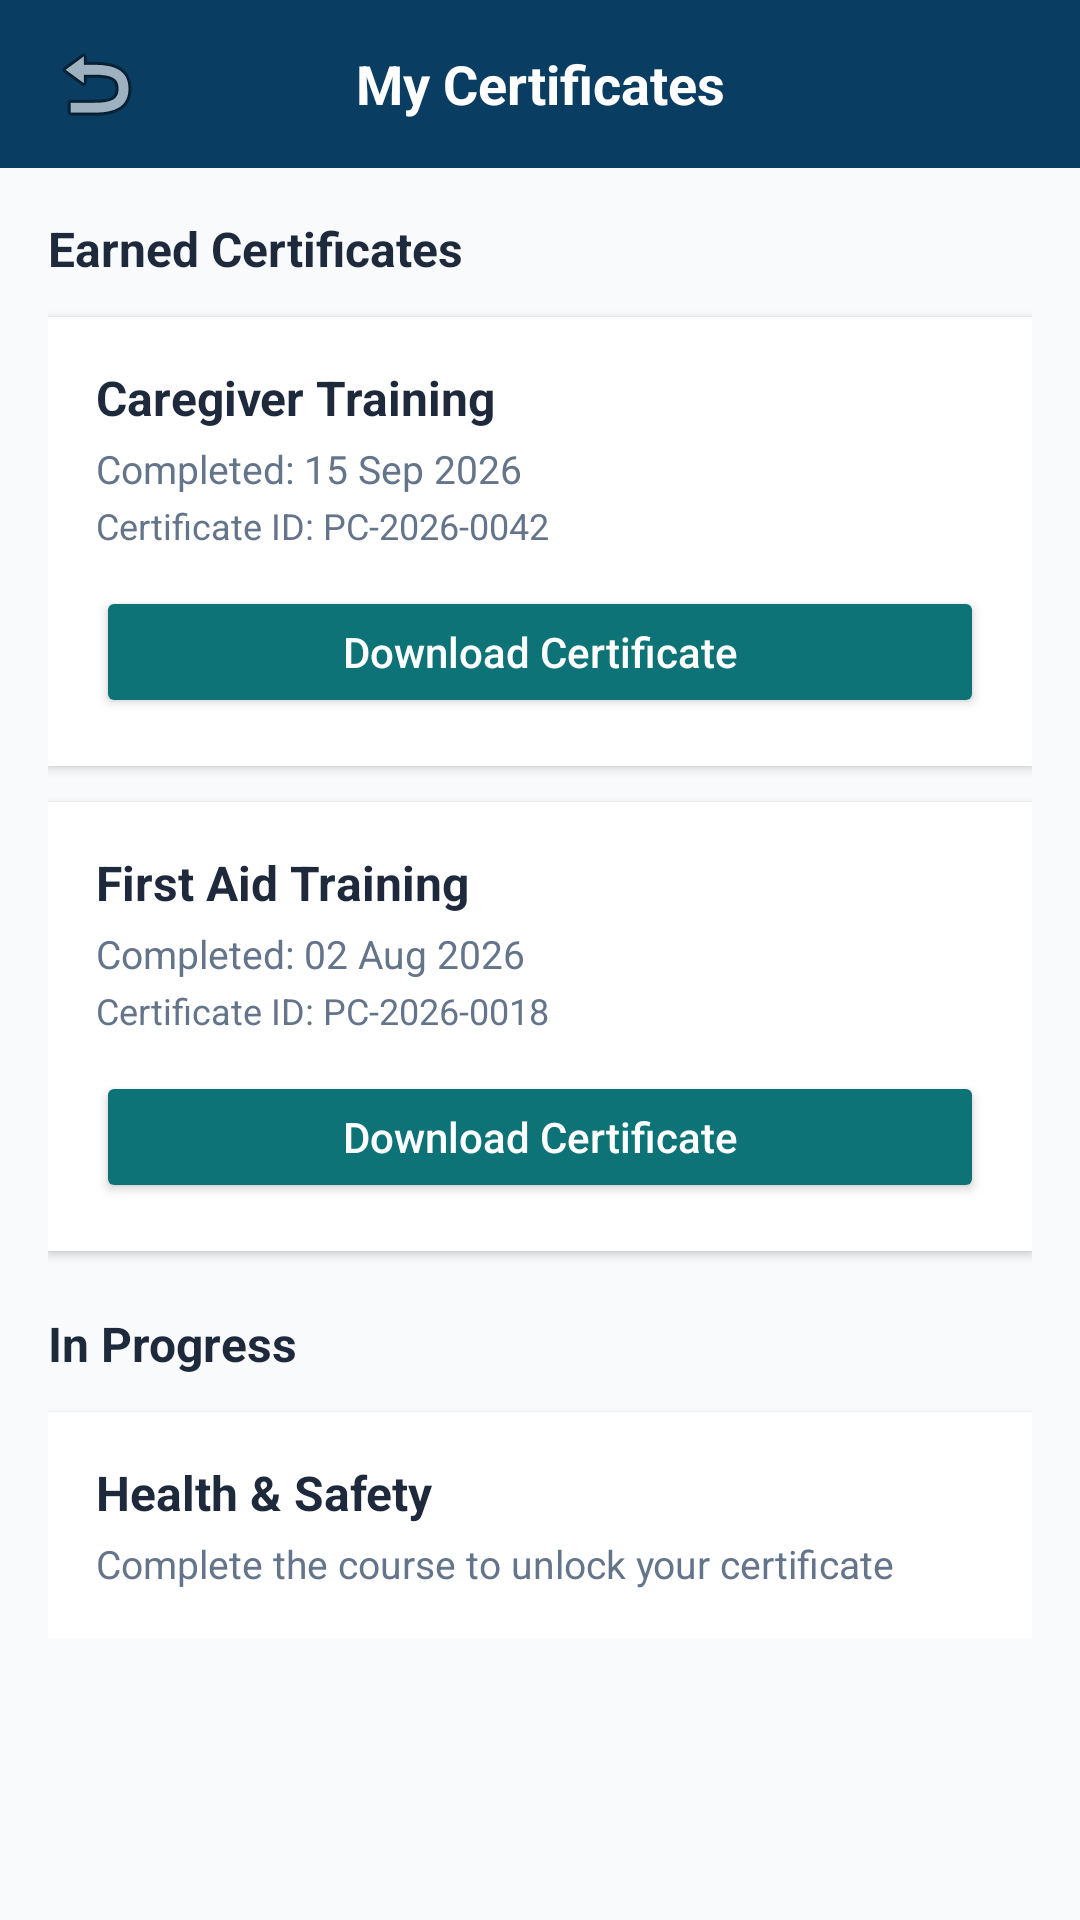

Locate icon controls on the screen. Image size 1080 × 1920, boxes as box=[x1, y1, x2, y2].
Back: box=[63, 54, 131, 116]
